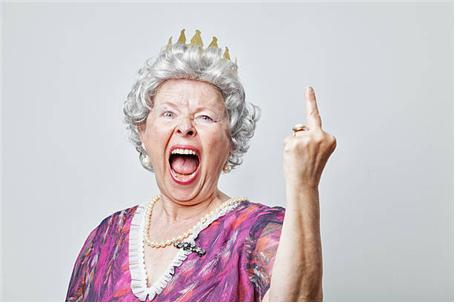insulting_gesture: (281, 82, 338, 196)
